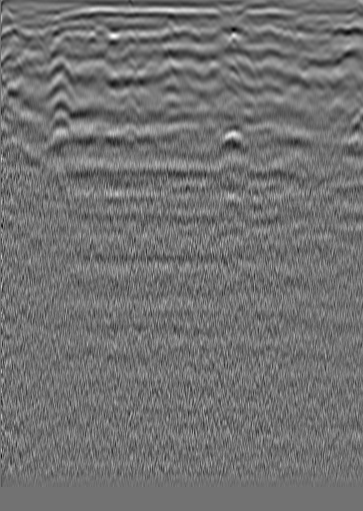가스: (210, 123, 252, 160)
상수: (315, 10, 335, 30)
오수: (24, 25, 44, 45)
우수: (160, 21, 180, 41)
